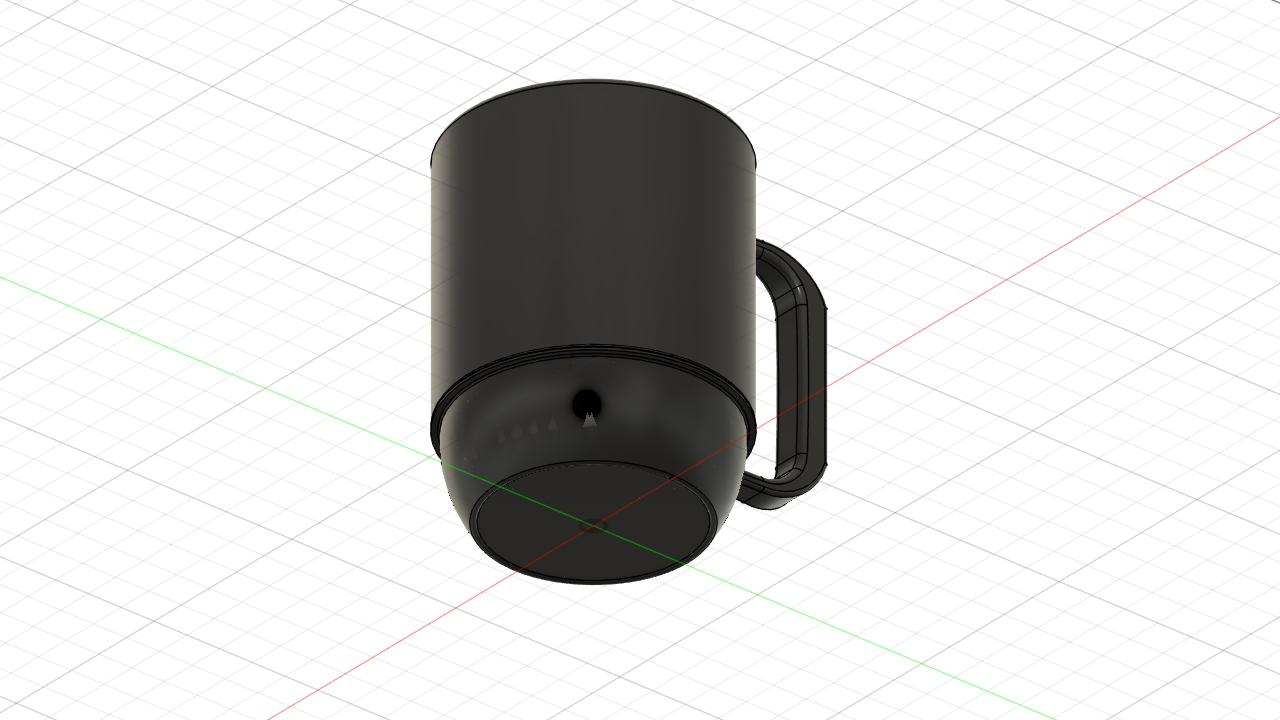mug-real100-3d100: (430, 80, 826, 584)
